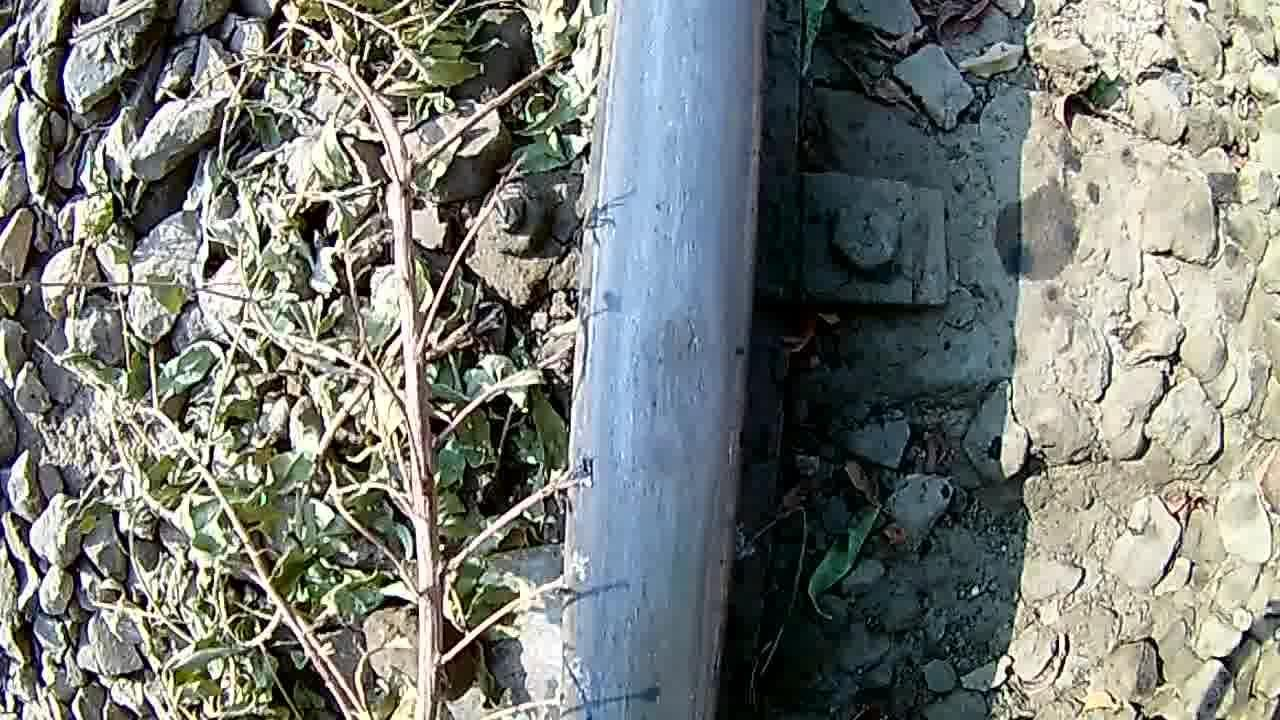crack: (600, 224, 747, 526)
